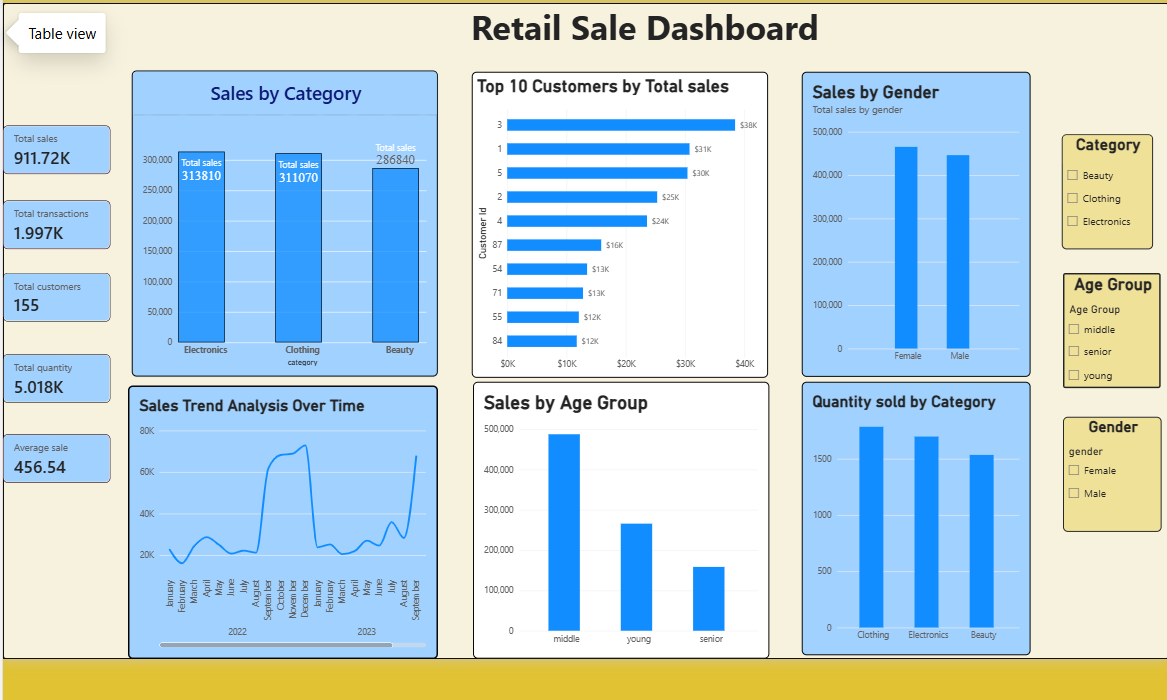

Layout of this report page (visuals, bound fields, positions):
{"tool":"powerbi","page":{"name":"Overall_analysis","canvas":[1920,1080],"ordinal":0},"visuals":[{"type":"cardVisual","fields":{"Data":["retail_sale.Total sales"]},"box":[0,201.7,177,80.3],"z":0},{"type":"cardVisual","fields":{"Data":["retail_sale.Total transactions"]},"box":[0,325.2,177,80.3],"z":1000},{"type":"cardVisual","fields":{"Data":["retail_sale.Total customers"]},"box":[0,444.6,177,80.3],"z":2000},{"type":"cardVisual","fields":{"Data":["retail_sale.Total quantity"]},"box":[0,578.4,177,80.3],"z":3000},{"type":"cardVisual","fields":{"Data":["retail_sale.Average sale"]},"box":[0,710.1,177,80.3],"z":4000},{"type":"clusteredColumnChart","title":"Sales by Category","fields":{"Category":["retail_sale.category"],"Y":["retail_sale.Total sales"]},"box":[212,111.1,504.3,504.3],"z":5000},{"type":"lineChart","title":"Sales Trend Analysis Over Time","fields":{"Category":["retail_sale.Start of Month.Variation.Date Hierarchy.Year","retail_sale.Start of Month.Variation.Date Hierarchy.Month"],"Y":["Sum(retail_sale.total_sale)"]},"box":[205.8,629.8,510.5,450.8],"z":6000},{"type":"clusteredBarChart","title":"Top 10 Customers  by Total sales","fields":{"Category":["retail_sale.customer_id"],"Y":["retail_sale.Total sales"]},"box":[771.9,113.2,487.8,504.3],"z":7000},{"type":"clusteredColumnChart","title":"Sales by Age Group","fields":{"Category":["retail_sale.Age Group"],"Y":["retail_sale.Total sales"]},"box":[773.9,623.7,488,456],"z":8000},{"type":"clusteredColumnChart","title":"Sales by Gender","fields":{"Category":["retail_sale.gender"],"Y":["retail_sale.Total sales"]},"box":[1315.3,113.2,376.7,502.2],"z":9000},{"type":"clusteredColumnChart","title":"Quantity sold by Category","fields":{"Category":["retail_sale.category"],"Y":["Sum(retail_sale.quantity)"]},"box":[1315.3,623.7,376.7,450.8],"z":10000},{"type":"slicer","title":"Category ","fields":{"Values":["retail_sale.category"]},"box":[1743.4,216.1,150.3,189.4],"z":11000},{"type":"slicer","title":"Age Group","fields":{"Values":["retail_sale.Age Group"]},"box":[1745.5,444.6,160.5,189.4],"z":12000},{"type":"slicer","title":"Gender ","fields":{"Values":["retail_sale.gender"]},"box":[1745.5,681.3,162.6,189.4],"z":13000},{"type":"textbox","box":[716.3,0,681.3,78.2],"z":14000}]}

Visuals, with their boxes in screenshot pixels (x1, y1, x2, y2):
cardVisual - retail_sale.Total sales: select_region(9, 124, 115, 172)
cardVisual - retail_sale.Total transactions: select_region(9, 198, 115, 246)
cardVisual - retail_sale.Total customers: select_region(9, 270, 115, 318)
cardVisual - retail_sale.Total quantity: select_region(9, 350, 115, 398)
cardVisual - retail_sale.Average sale: select_region(9, 429, 115, 477)
"Sales by Category" clusteredColumnChart: select_region(136, 70, 438, 372)
"Sales Trend Analysis Over Time" lineChart: select_region(132, 381, 438, 651)
"Top 10 Customers  by Total sales" clusteredBarChart: select_region(472, 71, 764, 373)
"Sales by Age Group" clusteredColumnChart: select_region(473, 377, 766, 650)
"Sales by Gender" clusteredColumnChart: select_region(798, 71, 1023, 372)
"Quantity sold by Category" clusteredColumnChart: select_region(798, 377, 1023, 647)
"Category " slicer: select_region(1054, 133, 1144, 246)
"Age Group" slicer: select_region(1055, 270, 1152, 383)
"Gender " slicer: select_region(1055, 411, 1153, 525)
textbox: select_region(438, 3, 847, 50)
